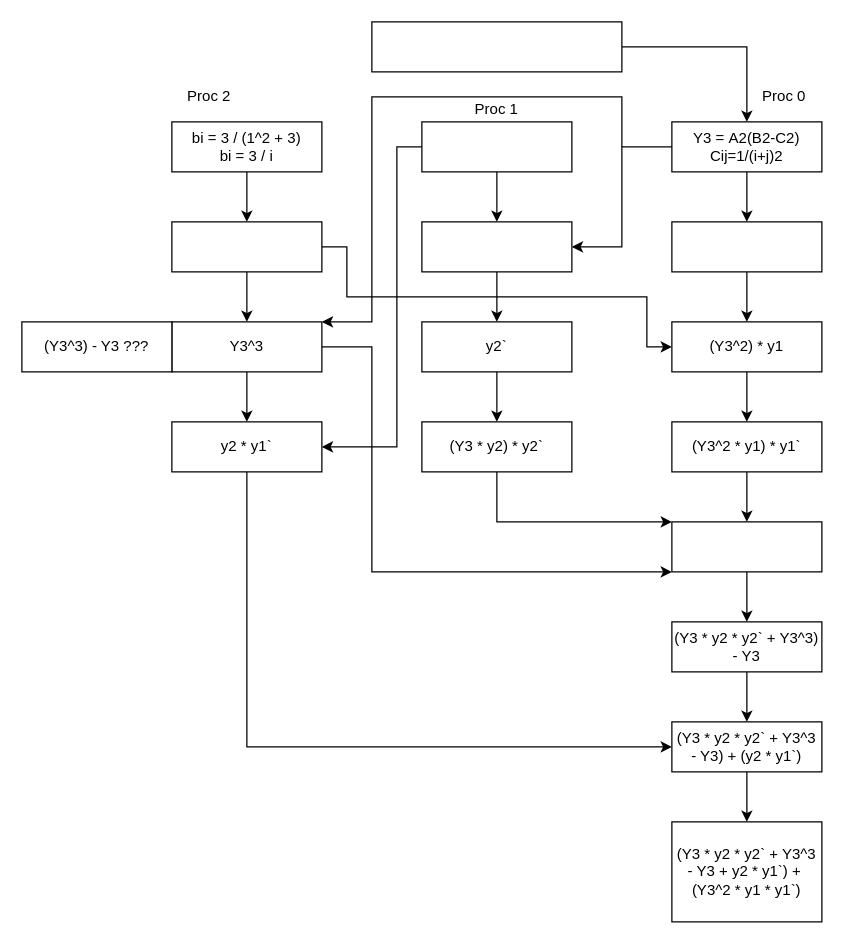
This 844x944 diagram has some shape labels left out. The centre of each missing label's shape, as x and y in pixels:
"(Y3 * y2 * y2`) + (Y3^3)" belongs at (746,546).
"Input / auto insert" belongs at (496,46).
"y1 = A * b" belongs at (246,246).
"y2 = A1(3b1+c1)" belongs at (496,146).
"Y3 * y2" belongs at (496,246).
"Y3^2" belongs at (746,246).
